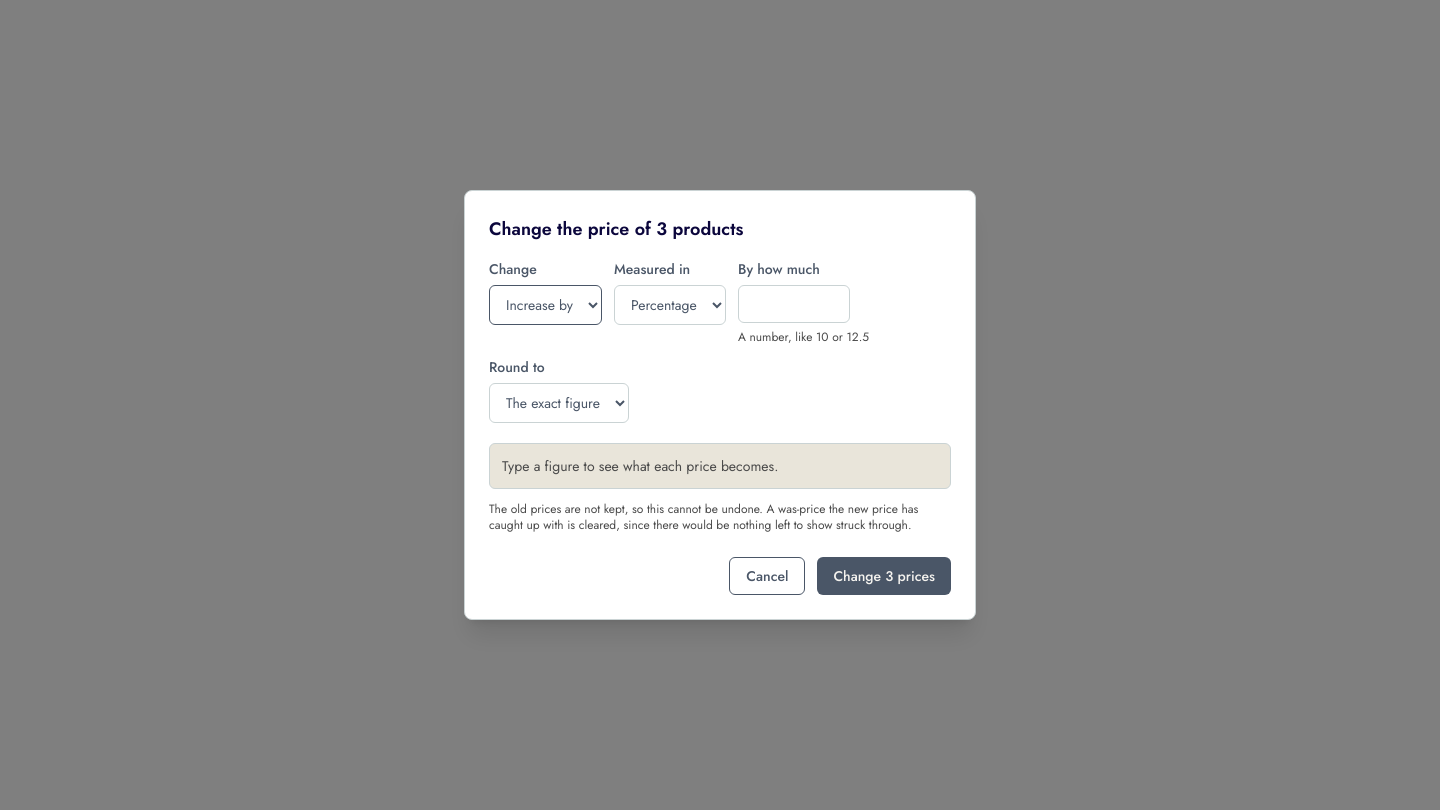
it: BulkPriceDialog › changes every price to the same figure when setting one outright
Select "Set to" in the dropdown labelled "Change" at (546, 305), box [489,285,602,325]
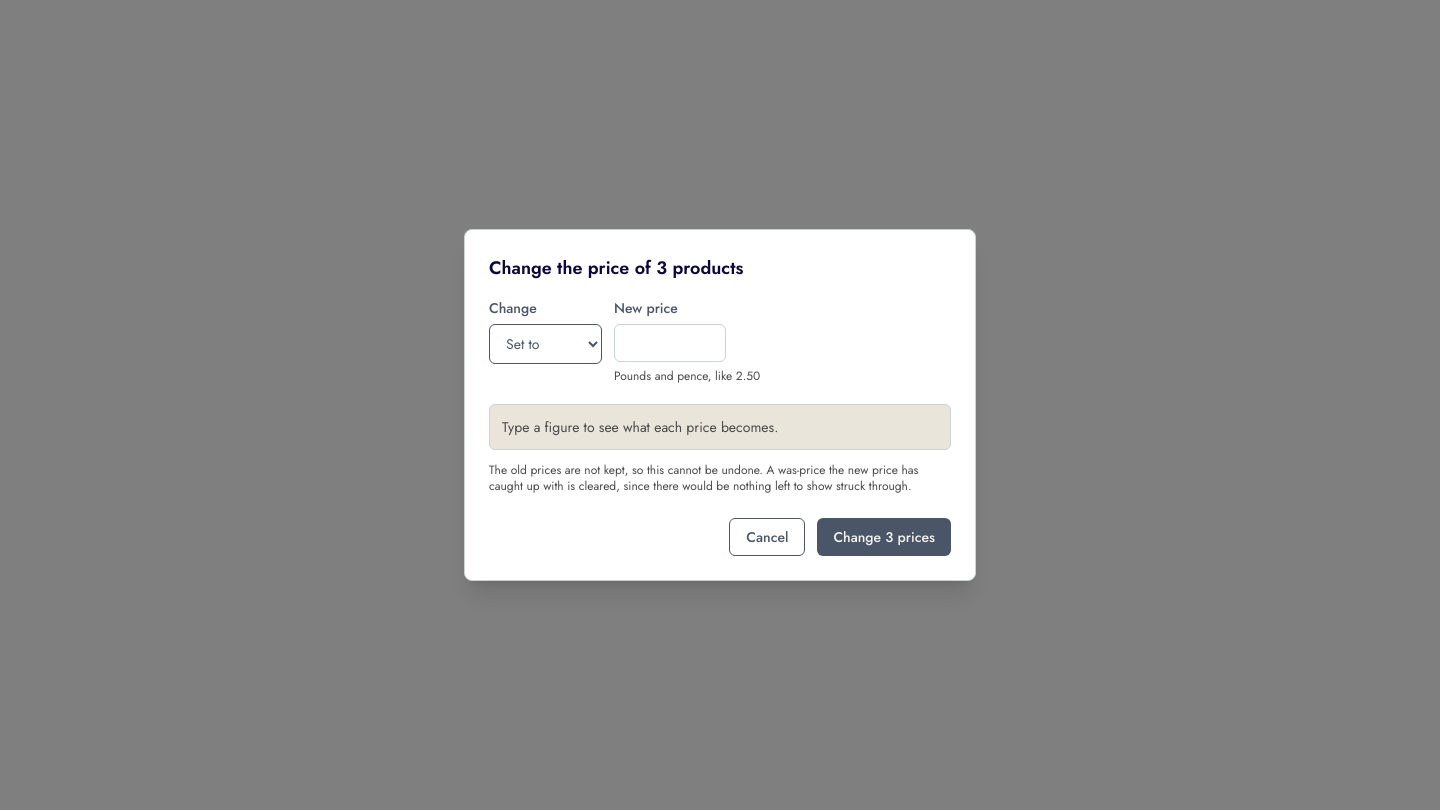
Type "12.50" into the field labelled "New price" at (670, 343), box [614,324,726,362]
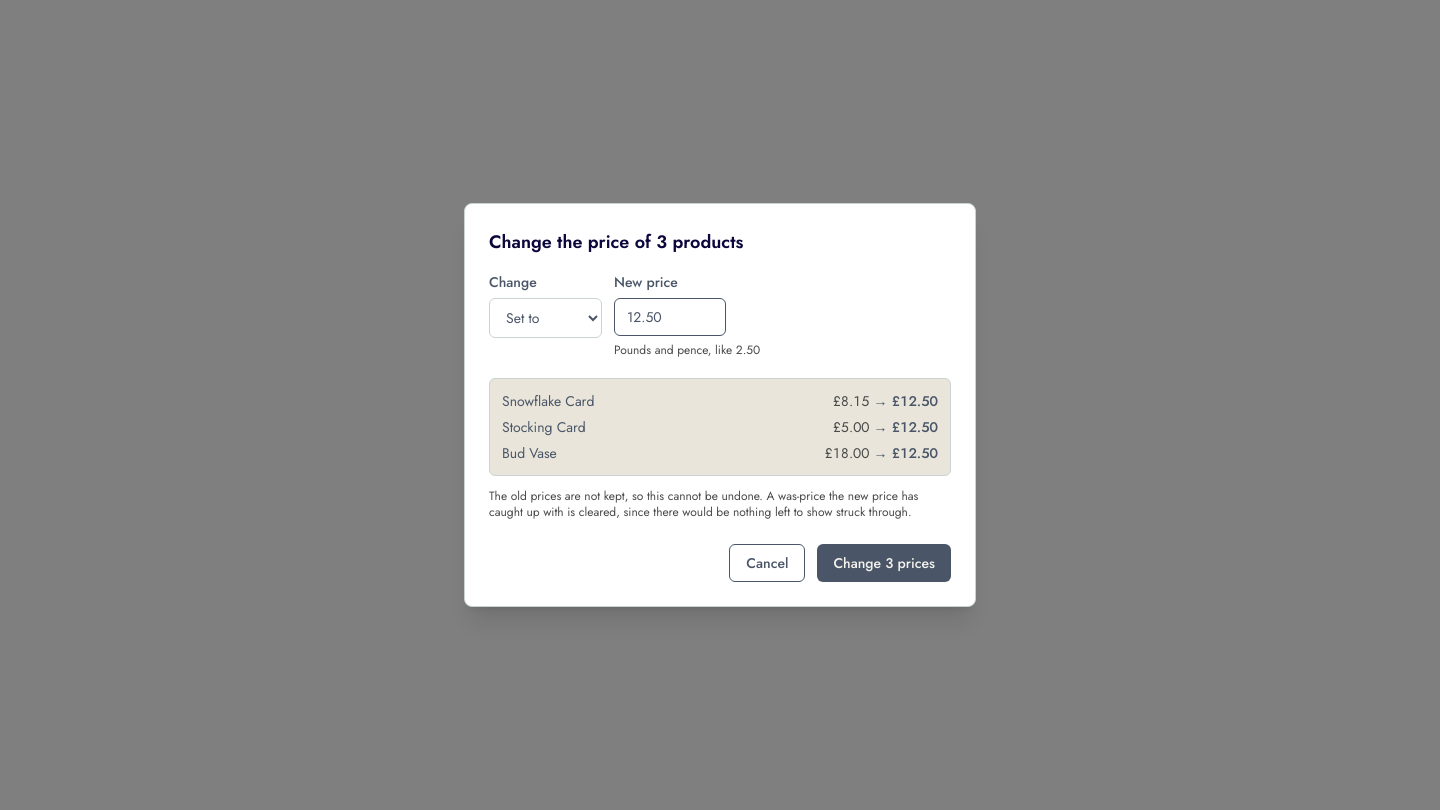
Result: the text "£12.50" is shown 3 times at [892,391,938,411]; [892,417,938,437]; [892,443,938,463]
